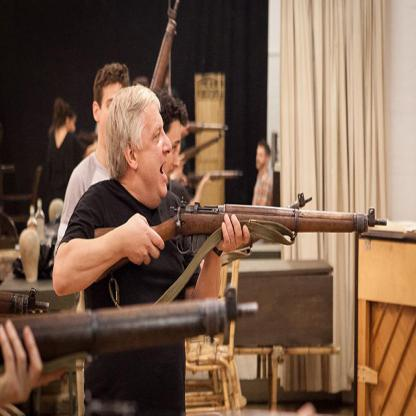face: (137, 103, 173, 199), (101, 82, 132, 153), (160, 116, 183, 187), (256, 147, 266, 169), (69, 112, 78, 136)
